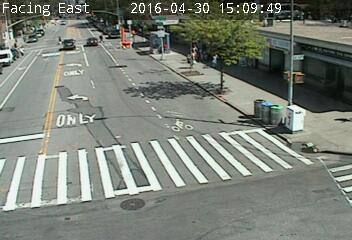neg: (290, 134, 323, 178), (91, 95, 108, 117), (235, 105, 251, 126), (333, 112, 347, 131), (82, 17, 90, 29)
pos: (97, 32, 106, 45), (55, 35, 63, 46)
